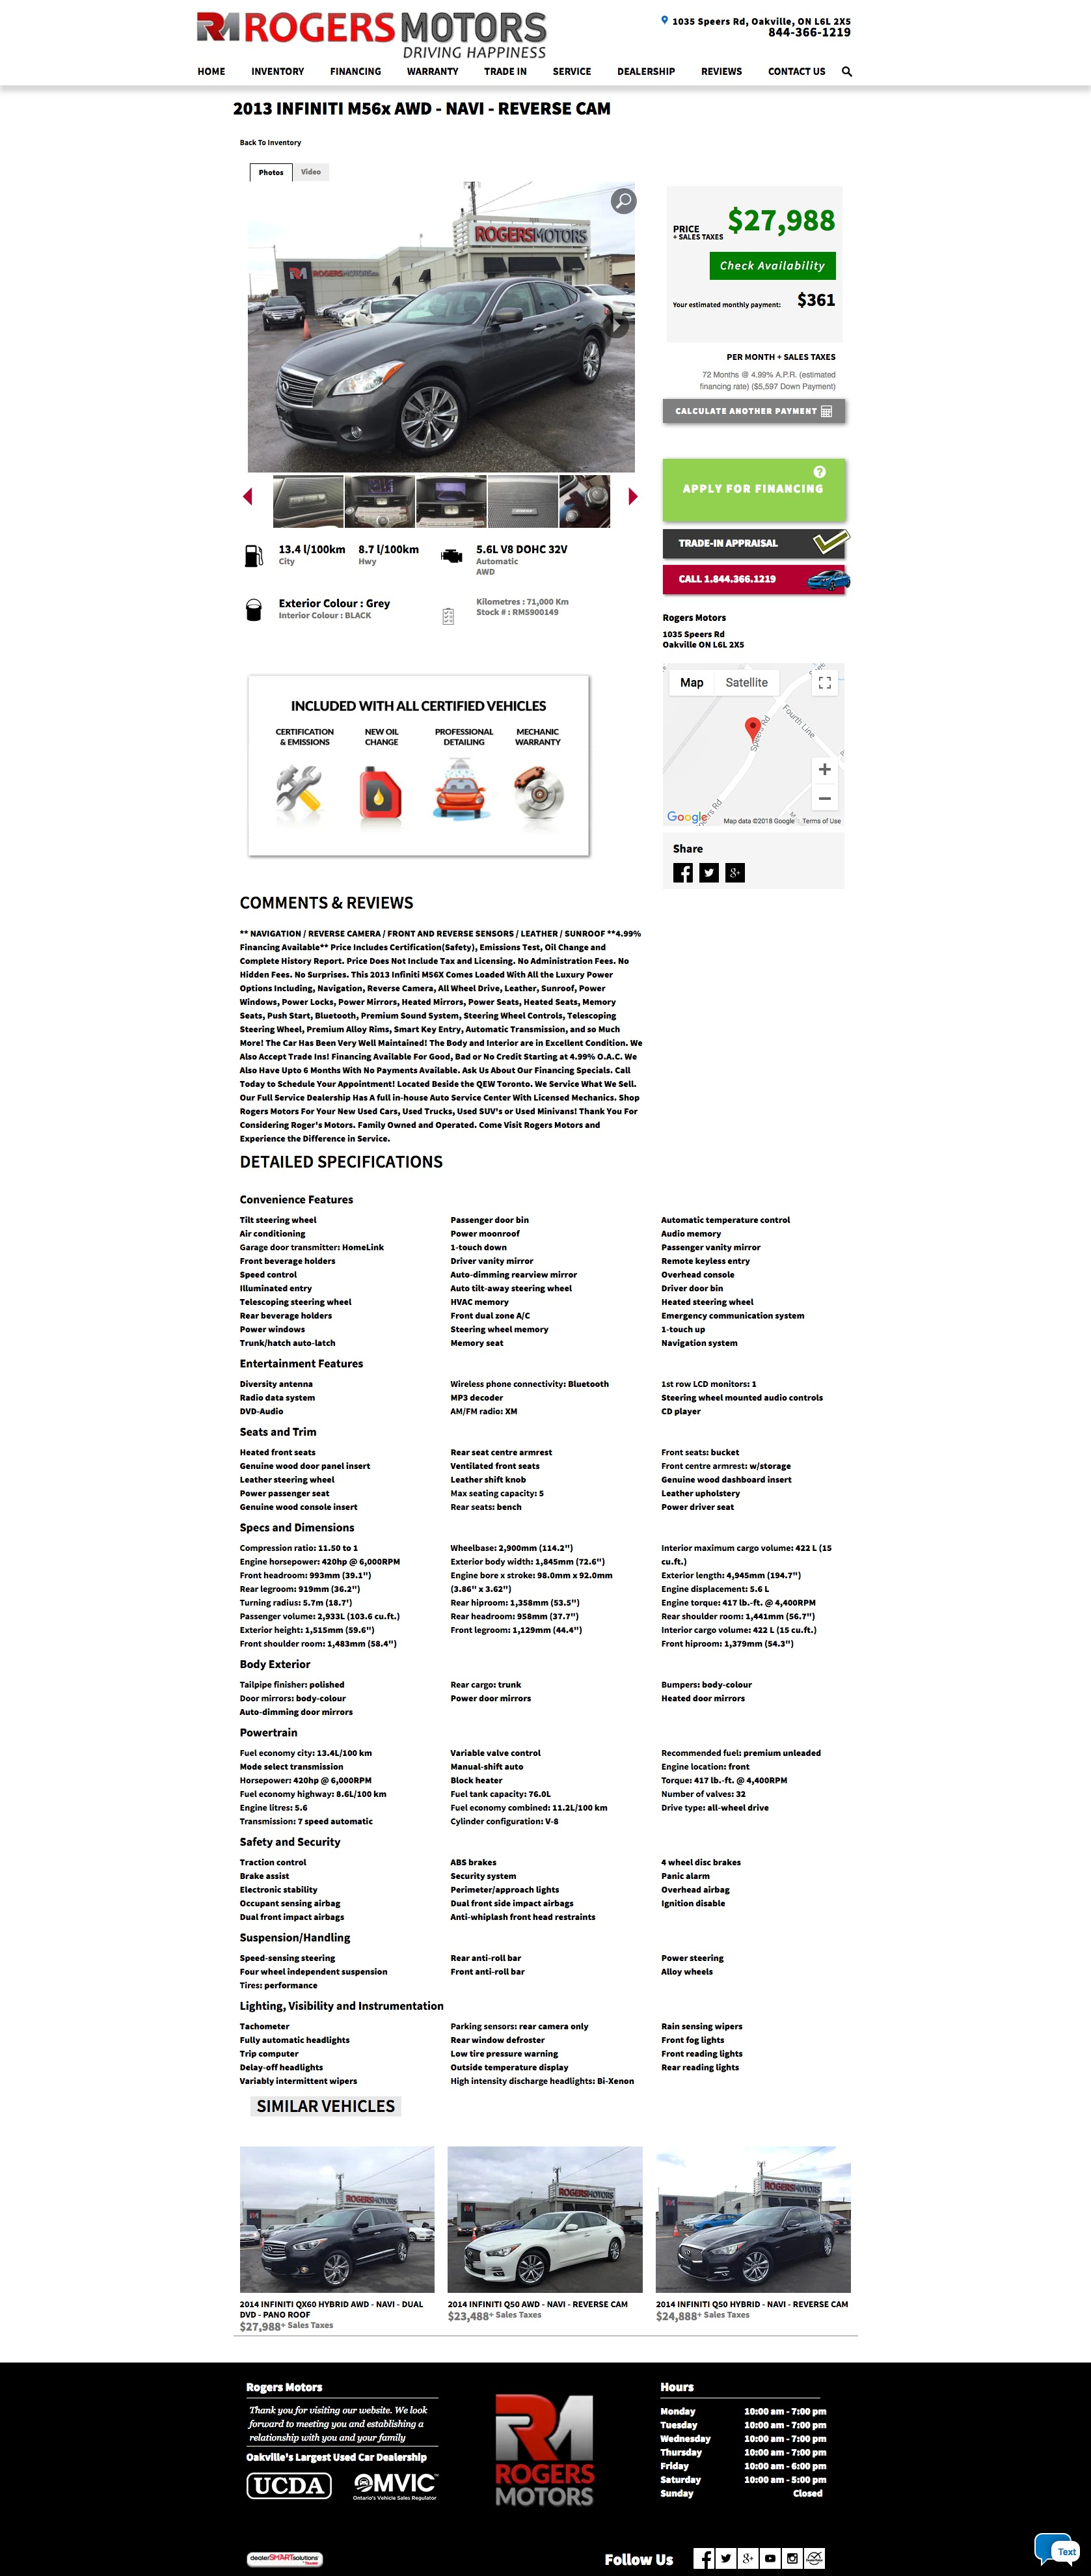car: (628, 488, 639, 508)
